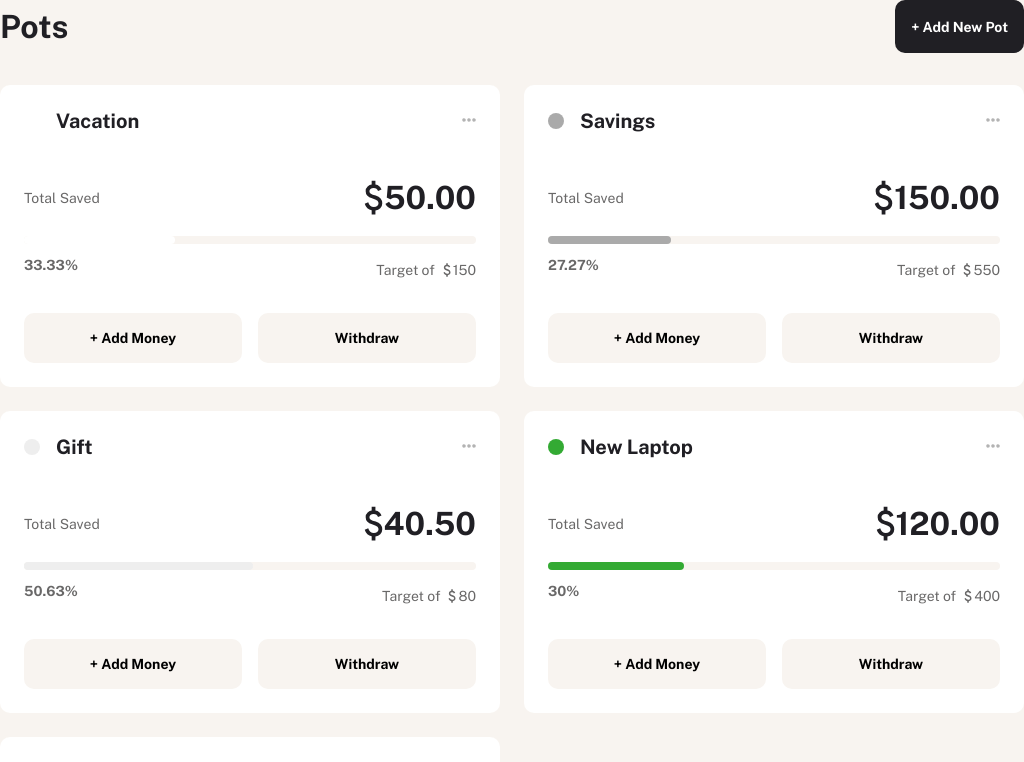
Test case: pot component tests › test clicking add money button displays add form
This screenshot has width=1024, height=762.
Click the button with test id "add-btn" below "33.33" at point(133, 338), box left=24, top=313, right=242, bottom=363
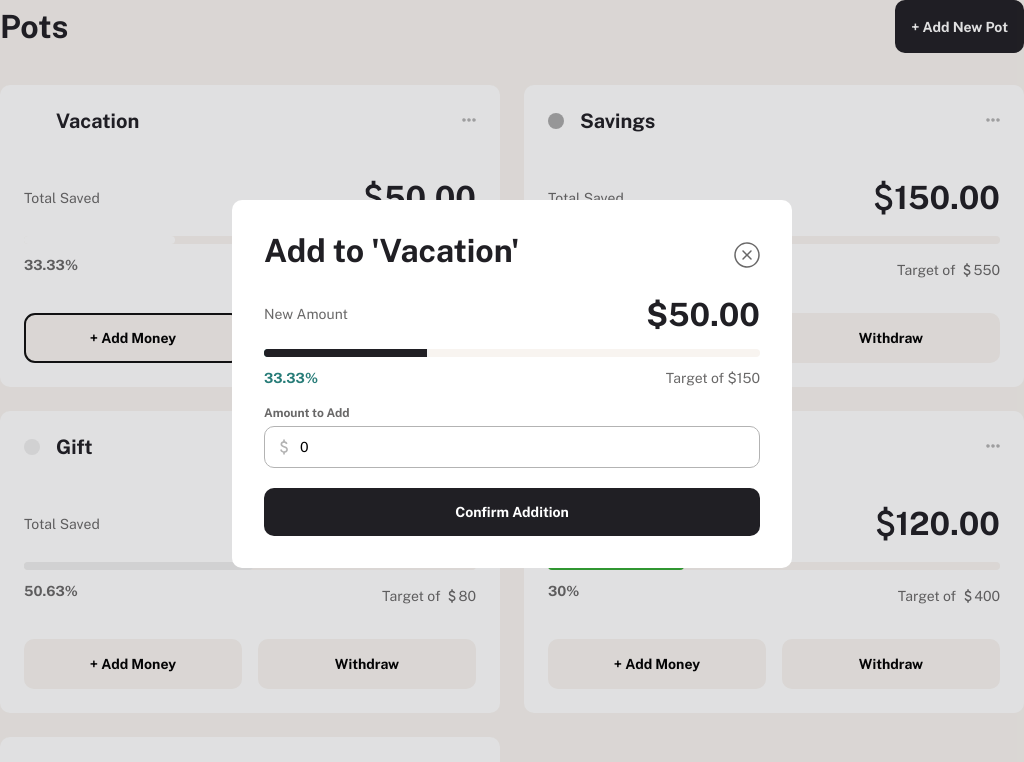
Expected: the form with test id "add-form" is shown, left=232, top=200, right=792, bottom=568
